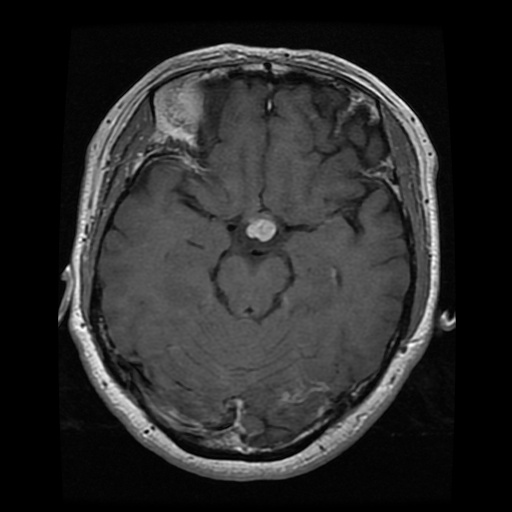pituitary: (247, 216, 275, 242)
